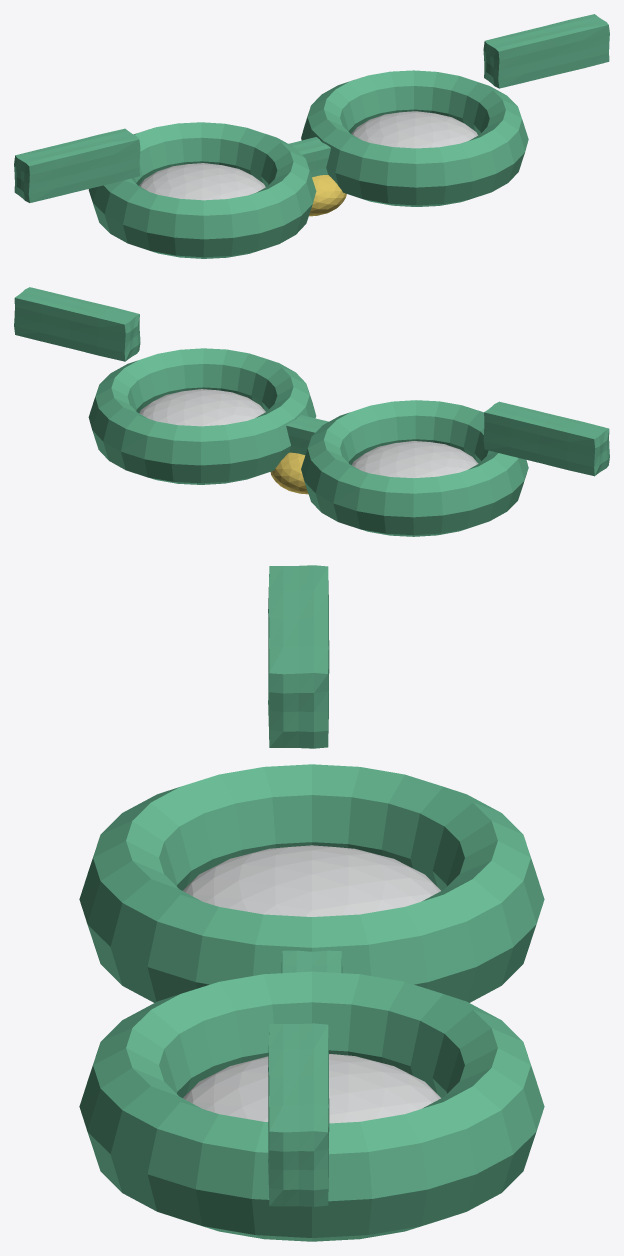
The model's file is gafas-aventurero.glb.
The picture shows the model from 3 angles, top to bottom: view 1: azimuth 30°, elevation 25°; view 2: azimuth 150°, elevation 25°; view 3: azimuth 270°, elevation 25°; orthographic projection. The views are drawn at different scales.
Visible parts, largest first — view 1: gafas-aventurero_02, gafas-aventurero_00, gafas-aventurero_05, gafas-aventurero_06, gafas-aventurero_03, gafas-aventurero_01, gafas-aventurero_07, gafas-aventurero_04; view 2: gafas-aventurero_02, gafas-aventurero_00, gafas-aventurero_05, gafas-aventurero_06, gafas-aventurero_03, gafas-aventurero_01, gafas-aventurero_07, gafas-aventurero_04; view 3: gafas-aventurero_02, gafas-aventurero_00, gafas-aventurero_01, gafas-aventurero_06, gafas-aventurero_05, gafas-aventurero_03, gafas-aventurero_04.
Boxes of the visible parts, bbox=[...] form: gafas-aventurero_02: bbox=[301, 70, 528, 206]; gafas-aventurero_00: bbox=[88, 122, 316, 258]; gafas-aventurero_05: bbox=[14, 128, 140, 202]; gafas-aventurero_06: bbox=[483, 14, 609, 88]; gafas-aventurero_03: bbox=[351, 111, 477, 148]; gafas-aventurero_01: bbox=[139, 163, 265, 200]; gafas-aventurero_07: bbox=[309, 175, 346, 216]; gafas-aventurero_04: bbox=[288, 137, 330, 177]; gafas-aventurero_02: bbox=[88, 348, 316, 484]; gafas-aventurero_00: bbox=[301, 400, 528, 536]; gafas-aventurero_05: bbox=[483, 401, 609, 476]; gafas-aventurero_06: bbox=[14, 287, 140, 361]; gafas-aventurero_03: bbox=[139, 389, 265, 426]; gafas-aventurero_01: bbox=[352, 441, 478, 478]; gafas-aventurero_07: bbox=[270, 452, 308, 494]; gafas-aventurero_04: bbox=[286, 415, 328, 454]; gafas-aventurero_02: bbox=[79, 971, 544, 1241]; gafas-aventurero_00: bbox=[79, 764, 544, 1002]; gafas-aventurero_01: bbox=[183, 845, 440, 916]; gafas-aventurero_06: bbox=[268, 1023, 329, 1206]; gafas-aventurero_05: bbox=[268, 565, 329, 748]; gafas-aventurero_03: bbox=[183, 1054, 440, 1123]; gafas-aventurero_04: bbox=[281, 950, 342, 973].
Size of the model in its own units: 0.7314 by 0.1481 by 0.2523.
